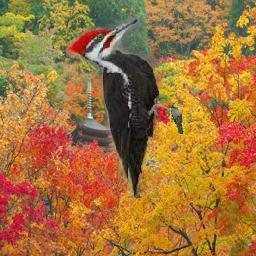Cuckoo: (169, 106, 184, 134)
Woodpecker: (67, 18, 160, 199)
